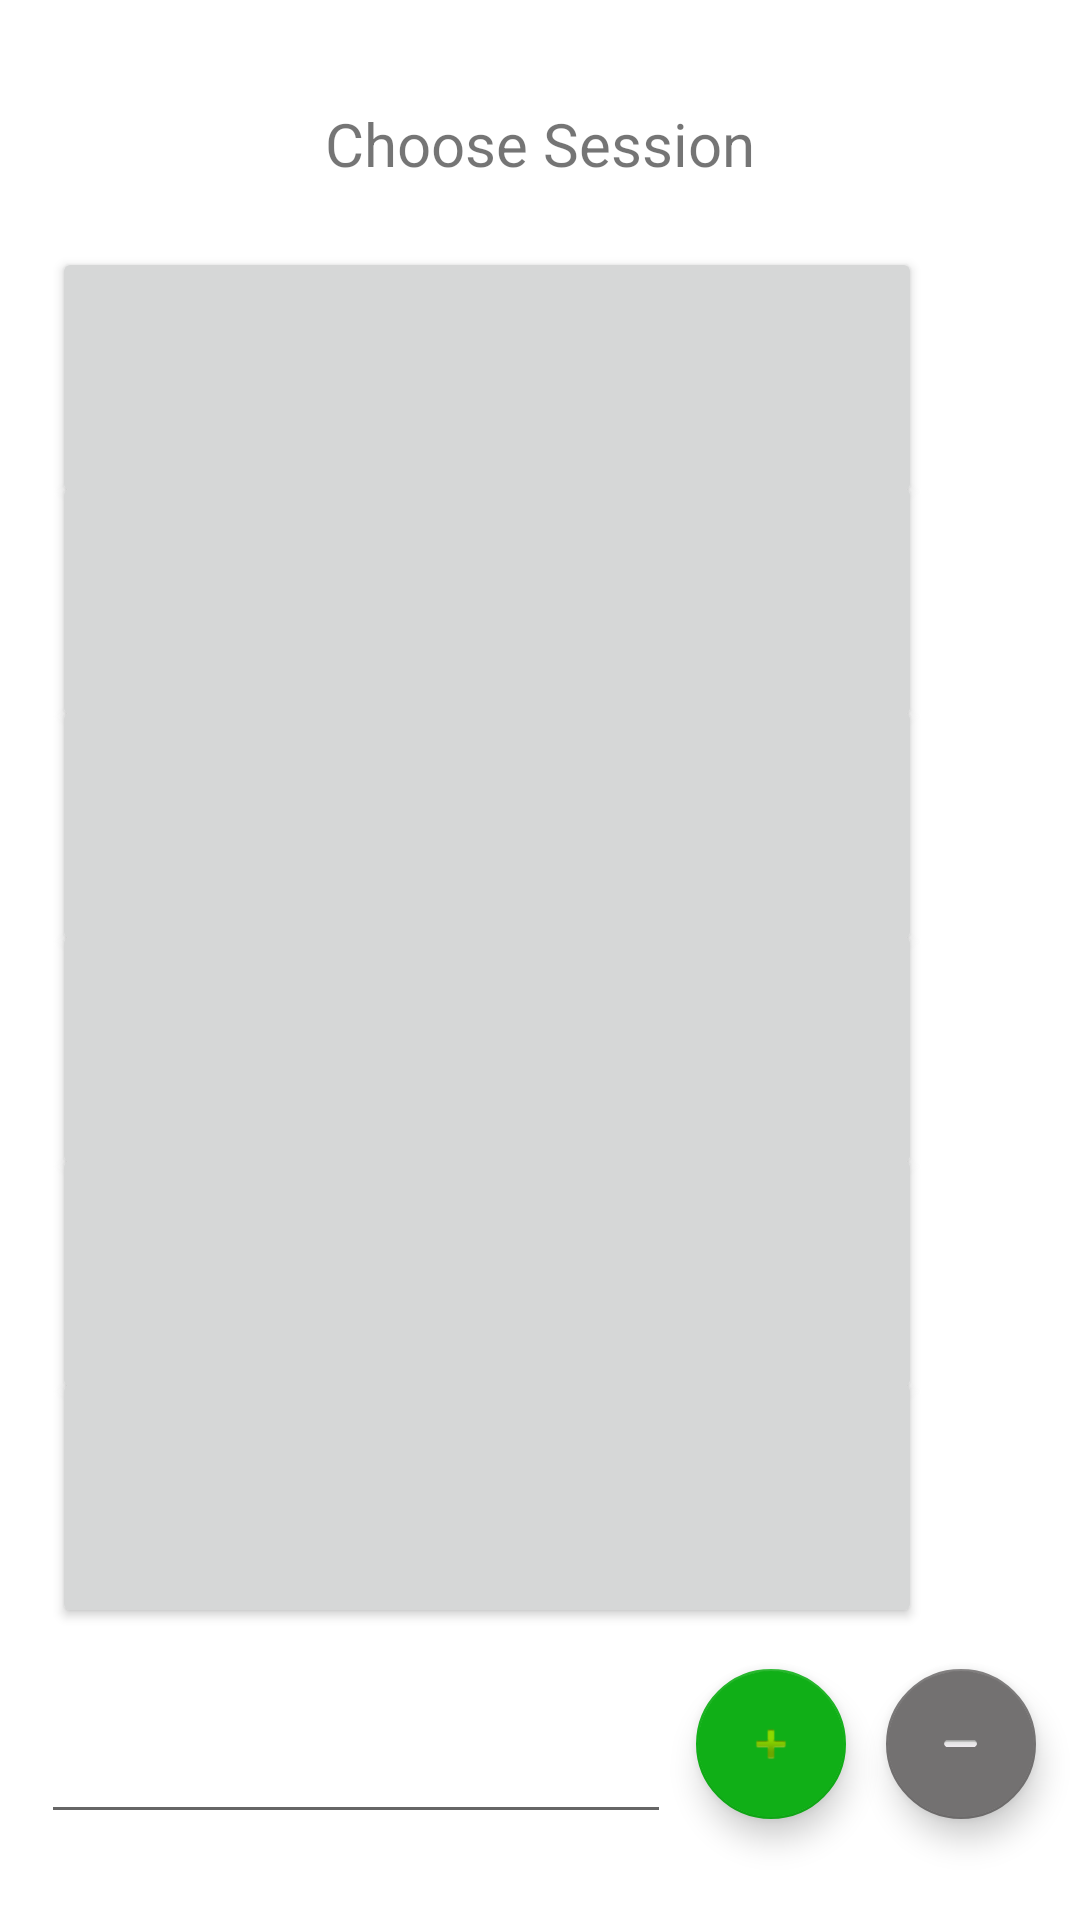

Screen size 1080 × 1920. Icon name, then its box in pixels as (x1, y1, x2, y2):
add: (696, 1669, 846, 1819)
